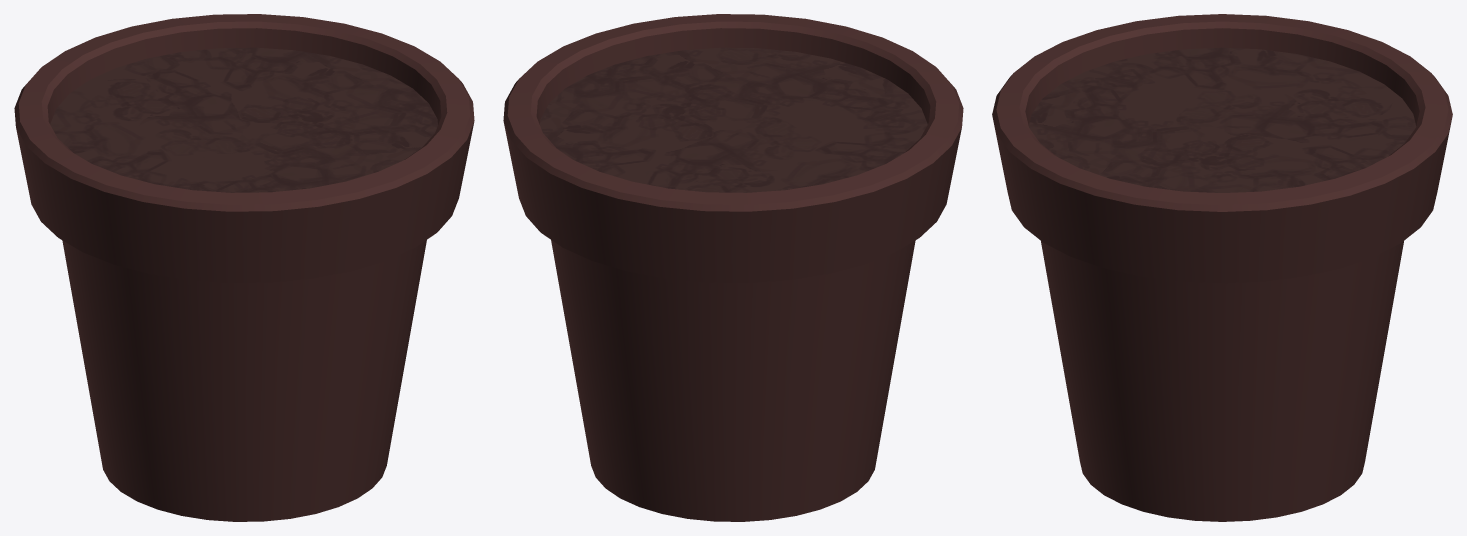
File: plant_pot.gltf
3 views of the same model, side by side, from view 1: azimuth 30°, elevation 25°; view 2: azimuth 150°, elevation 25°; view 3: azimuth 270°, elevation 25° (orthographic).
Visible parts, largest first — view 1: Cylinder.001; view 2: Cylinder.001; view 3: Cylinder.001.
Part boxes in pixels (bbox=[...]): Cylinder.001: bbox=[14, 14, 474, 521]; Cylinder.001: bbox=[503, 14, 963, 521]; Cylinder.001: bbox=[992, 14, 1452, 521].
Size of the model in its own units: 0.498 by 0.4226 by 0.498.
Materials: 2 (1 with a texture image).
